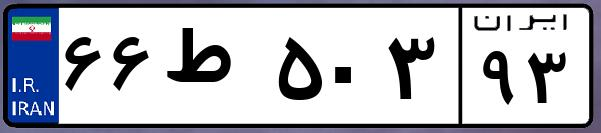0: (330, 28, 385, 110)
3: (385, 28, 445, 110), (525, 38, 570, 115)
5: (270, 28, 330, 110)
6: (57, 26, 110, 100), (110, 28, 158, 98)
9: (475, 38, 525, 113)
ط: (158, 20, 270, 120)
